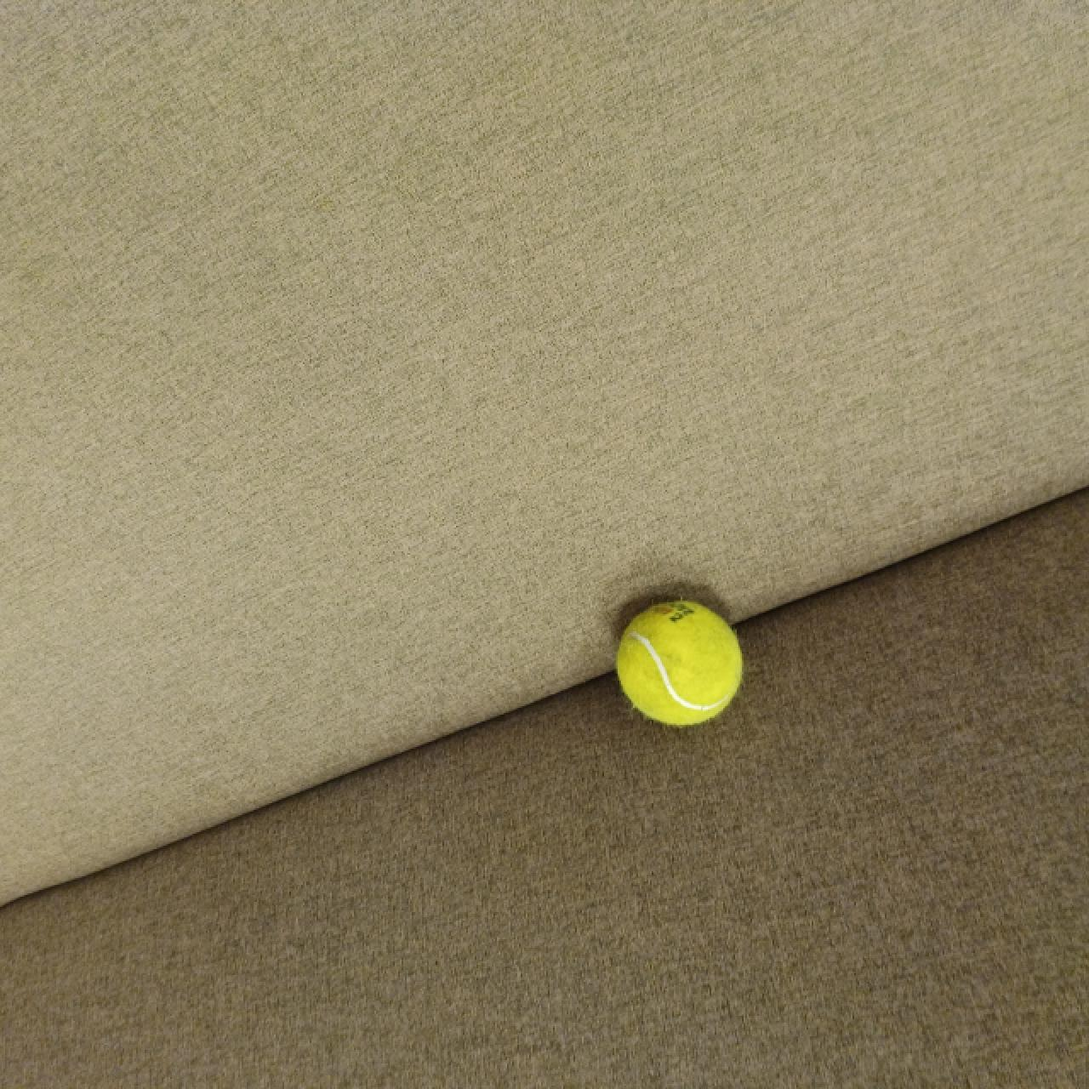tennis-ball: (613, 596, 750, 727)
